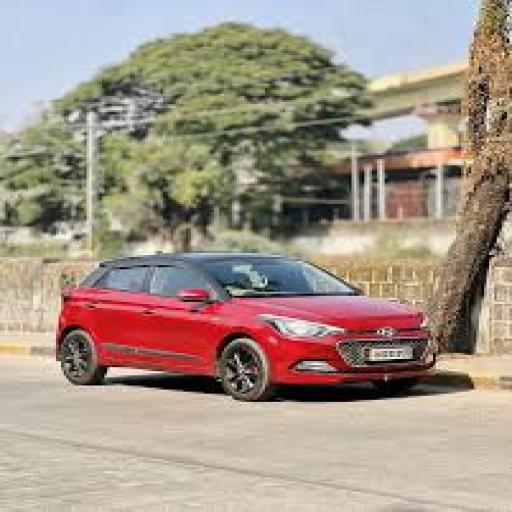License: (364, 338, 422, 364)
